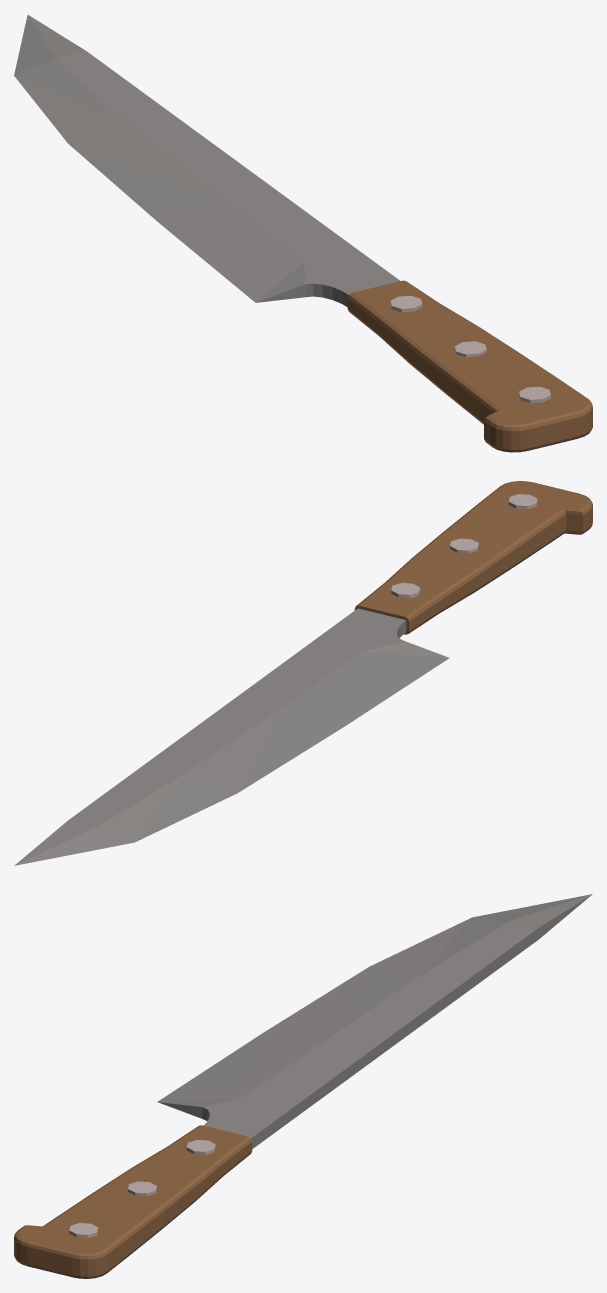
File: Knife_02.fbx
3 views of the same model, one above another, from view 1: azimuth 30°, elevation 25°; view 2: azimuth 150°, elevation 25°; view 3: azimuth 330°, elevation 25° (orthographic). The views are drawn at different scales.
Parts seen in each view (by area): view 1: Knife_02; view 2: Knife_02; view 3: Knife_02.
Part boxes in pixels (x1,y1,x2,y2): Knife_02: [14, 15, 592, 452]; Knife_02: [14, 481, 592, 865]; Knife_02: [14, 894, 592, 1278].
Size of the model in its own units: 5.82 by 1.35 by 40.42.
